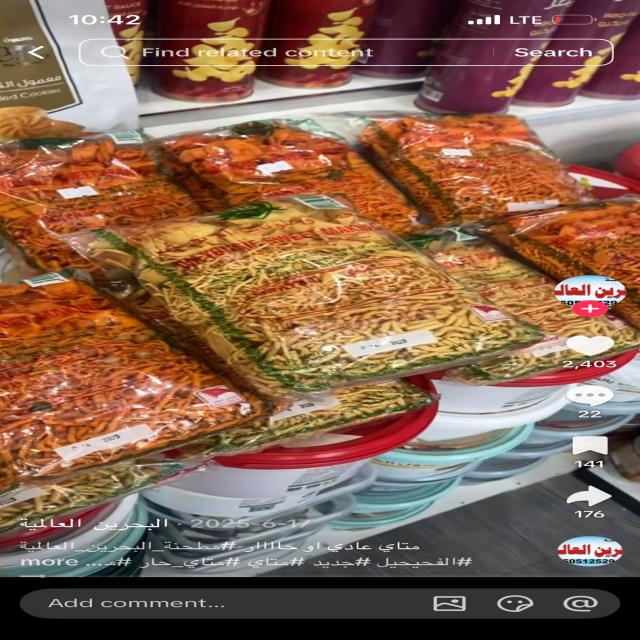Mattai: (3, 105, 640, 497)
